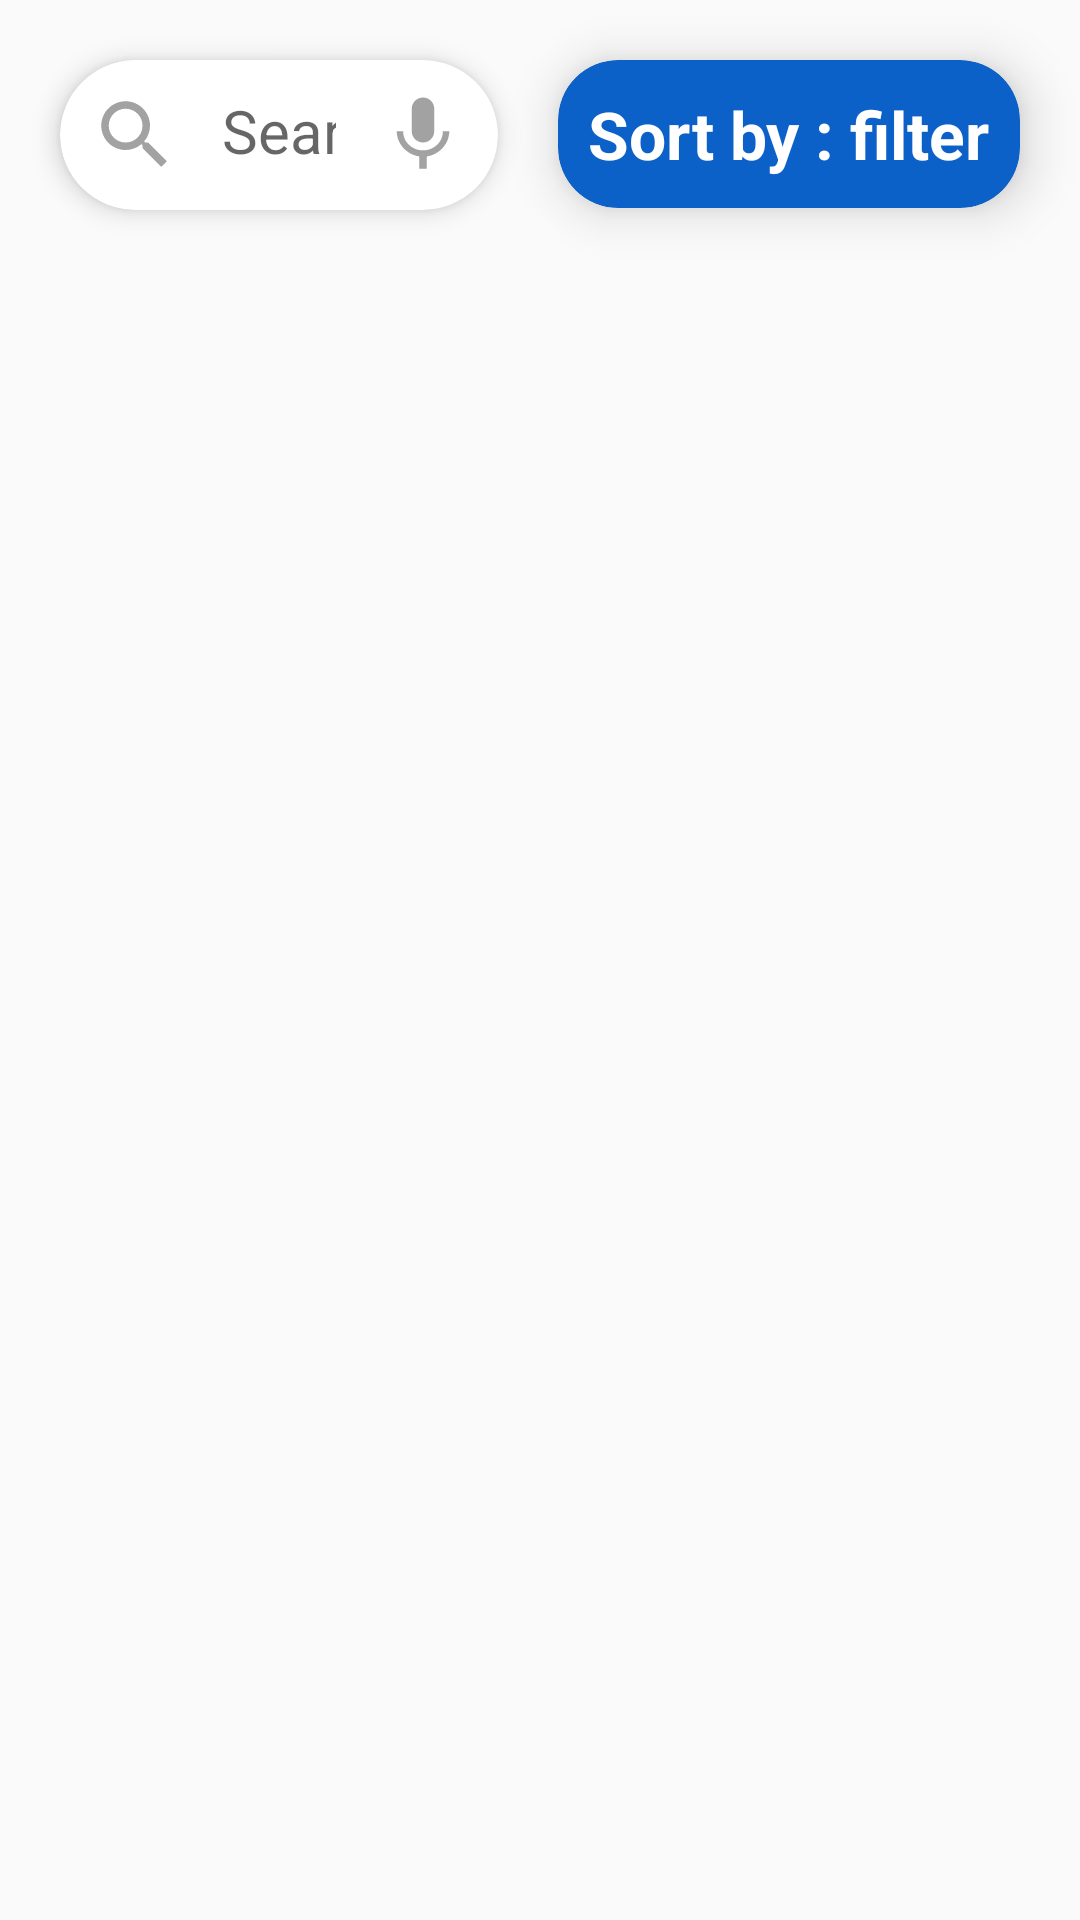

Icons on this 1080px×1920px Android screen, each with the point to tap as point (x, y):
mic: point (423, 133)
